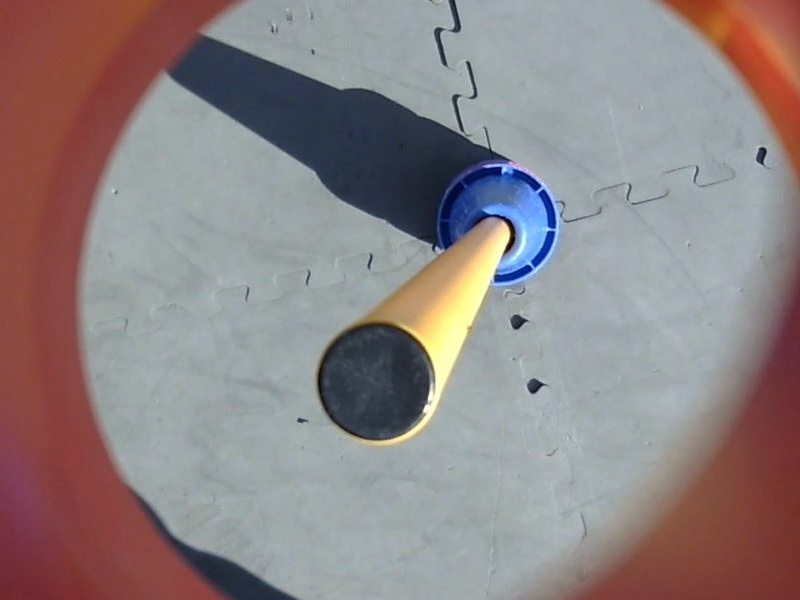tip: (311, 314, 444, 452)
